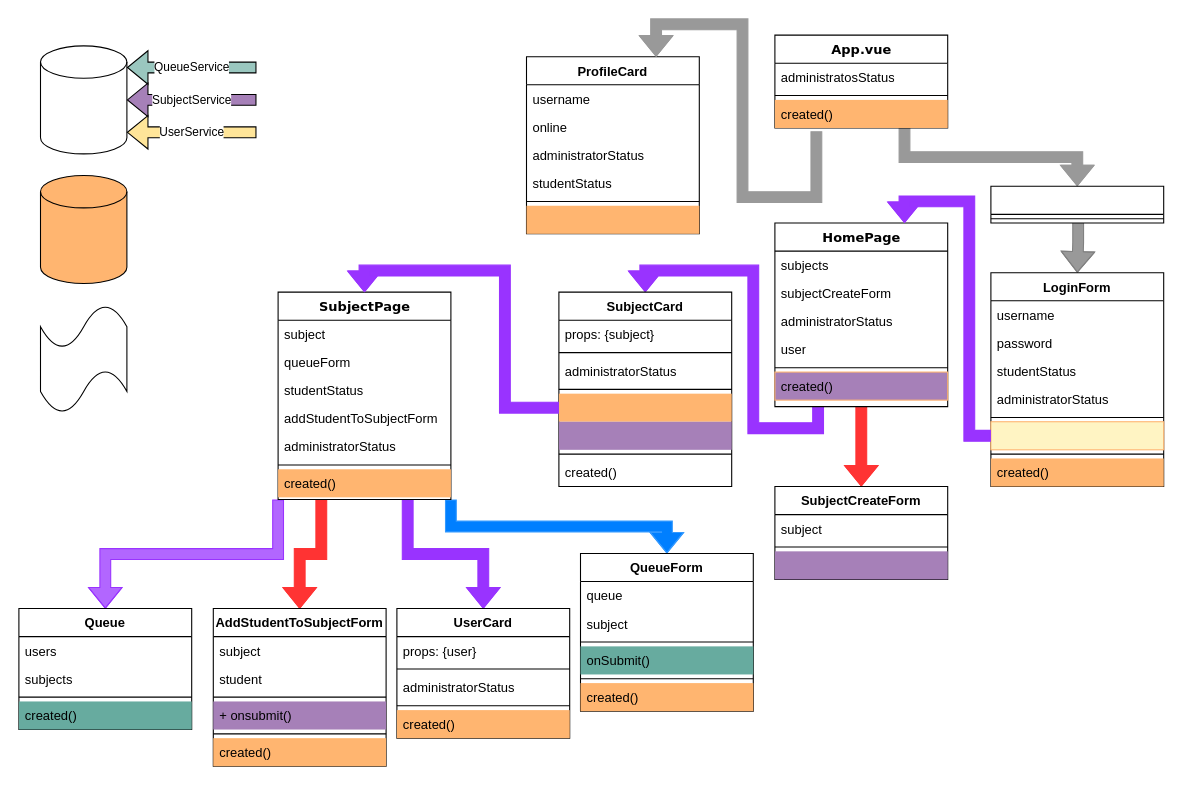
Some shapes in this 1183 by 788 pixel diagram are drawn without their labels. The shapes that lost their labels are listed below. From the top down, each one's centre as x and y in pixels, then its label:
pixel 83 99: API
pixel 612 219: + update()
pixel 1077 204: LoginPage
pixel 83 229: Store
pixel 83 358: Router
pixel 644 407: + enterSubject(subject)
pixel 644 435: + toggleActive(subject)
pixel 1077 435: + handleClickSignin()
pixel 860 565: addSubject()
